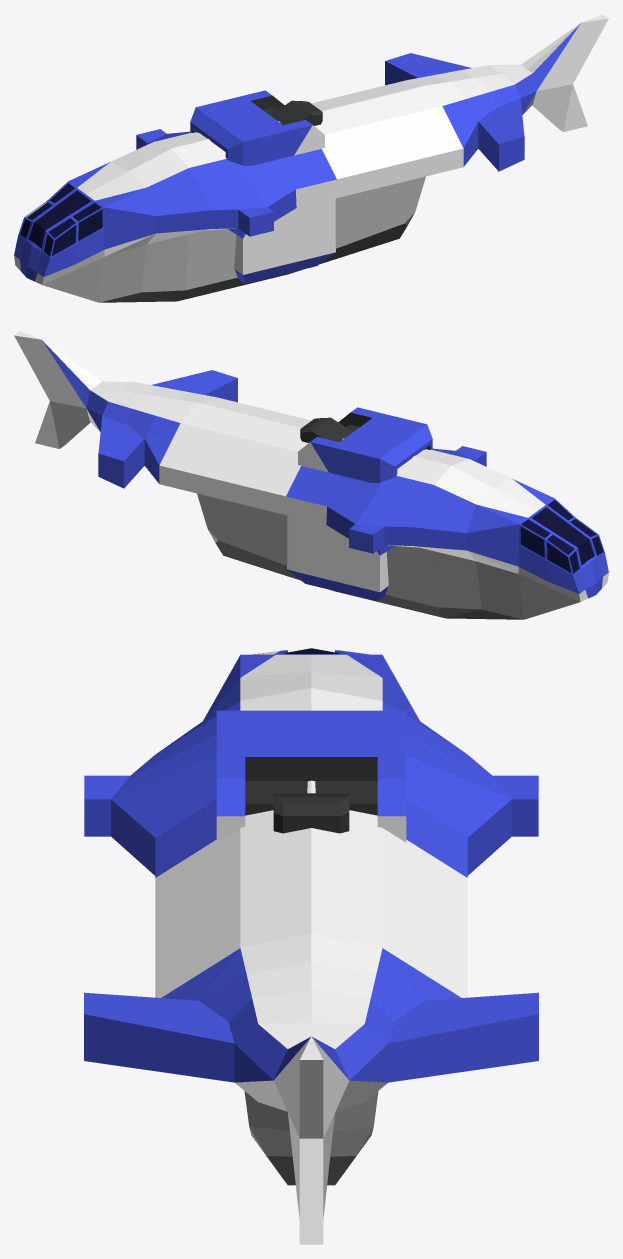
Rendered from Ship_v3.fbx.
The picture shows the model from 3 angles, top to bottom: view 1: azimuth 30°, elevation 25°; view 2: azimuth 150°, elevation 25°; view 3: azimuth 270°, elevation 25°; orthographic projection. The views are drawn at different scales.
Visible parts, largest first — view 1: Корабль_3.002, Двигатель_3; view 2: Корабль_3.002, Двигатель_3; view 3: Корабль_3.002, Двигатель_3.
Boxes of the visible parts, <box> form: Корабль_3.002: <box>14,14,608,302</box>; Двигатель_3: <box>190,90,335,283</box>; Корабль_3.002: <box>14,331,608,619</box>; Двигатель_3: <box>287,407,432,601</box>; Корабль_3.002: <box>84,648,538,1244</box>; Двигатель_3: <box>216,710,406,842</box>.
Bounding box in the file's own units: 1413 × 407 × 481.
1 material, 1 textured.
